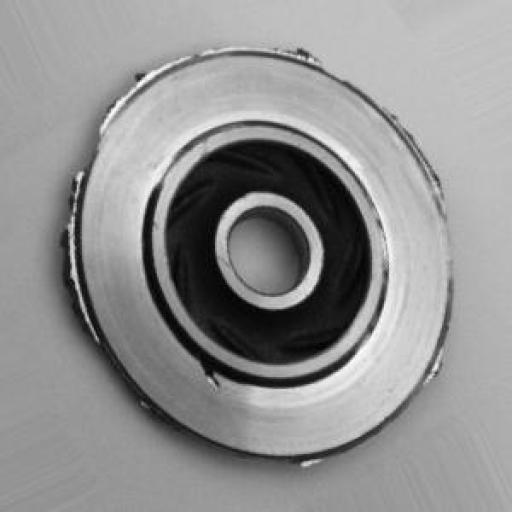defect: (32, 34, 478, 480)
